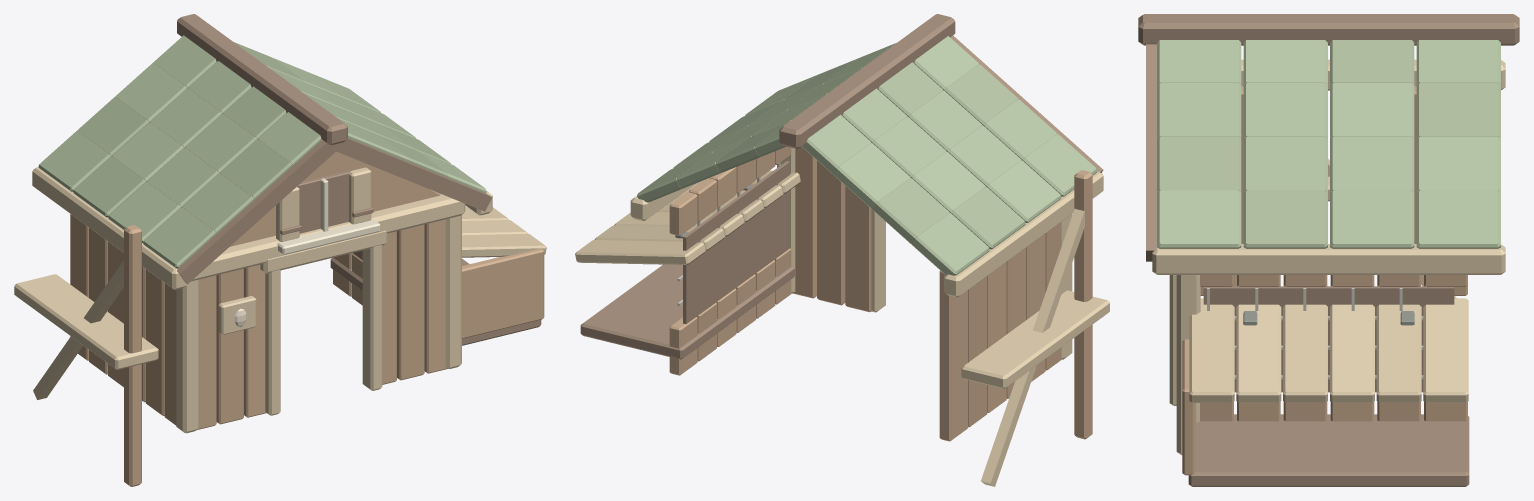
The model's file is crafted-coop-upgrading-front.glb.
The picture shows the model from 3 angles, left to right: view 1: azimuth 30°, elevation 25°; view 2: azimuth 150°, elevation 25°; view 3: azimuth 270°, elevation 25°; orthographic projection. The views are drawn at different scales.
Parts seen in each view (by area): view 1: nest-cheek-1, scaffold-platform, ridge-cap, scaffold-post-1, siding-30, header-1, barge-board-1, siding-27, corner-post-1, siding-31, gable-1, eave-fascia (+41 smaller); view 2: vent-dark-interior, nest-floor, scaffold-platform, ridge-cap, siding-8, scaffold-post-1, scaffold-brace, siding-30, eave-fascia, siding-31, siding-29, roof-tile (+39 smaller); view 3: nest-floor, ridge-cap, eave-fascia-1, vent-dark-interior, roof-tile-28, roof-tile-29, roof-tile-30, roof-tile-31, roof-tile-24, roof-tile-25, roof-tile-26, roof-tile-27 (+31 smaller).
Boxes of the visible parts, x1,y1,x2,y2 form: nest-cheek-1: [462, 248, 544, 338]; scaffold-platform: [14, 274, 158, 369]; ridge-cap: [177, 14, 347, 145]; scaffold-post-1: [124, 225, 141, 486]; siding-30: [397, 224, 424, 380]; header-1: [191, 194, 465, 281]; barge-board-1: [177, 139, 339, 284]; siding-27: [216, 268, 243, 424]; corner-post-1: [176, 279, 198, 433]; siding-31: [424, 219, 447, 373]; gable-1: [230, 151, 440, 246]; eave-fascia: [32, 167, 187, 289]; vent-dark-interior: [683, 161, 790, 323]; nest-floor: [580, 264, 794, 359]; scaffold-platform: [961, 290, 1109, 388]; ridge-cap: [779, 14, 955, 148]; siding-8: [939, 270, 967, 441]; scaffold-post-1: [1074, 170, 1092, 439]; scaffold-brace: [981, 208, 1084, 486]; siding-30: [817, 160, 845, 305]; eave-fascia: [944, 171, 1103, 297]; siding-31: [793, 146, 816, 298]; siding-29: [845, 186, 871, 312]; roof-tile: [911, 213, 989, 275]; nest-floor: [1188, 414, 1469, 486]; ridge-cap: [1138, 14, 1519, 45]; eave-fascia-1: [1152, 244, 1505, 274]; vent-dark-interior: [1203, 286, 1454, 392]; roof-tile-28: [1416, 190, 1500, 248]; roof-tile-29: [1330, 190, 1414, 248]; roof-tile-30: [1243, 190, 1327, 248]; roof-tile-31: [1157, 190, 1241, 248]; roof-tile-24: [1416, 136, 1500, 191]; roof-tile-25: [1330, 136, 1414, 191]; roof-tile-26: [1243, 136, 1327, 191]; roof-tile-27: [1157, 136, 1241, 191].
Bounding box in the file's own units: 2.4 × 1.87 × 1.52.
